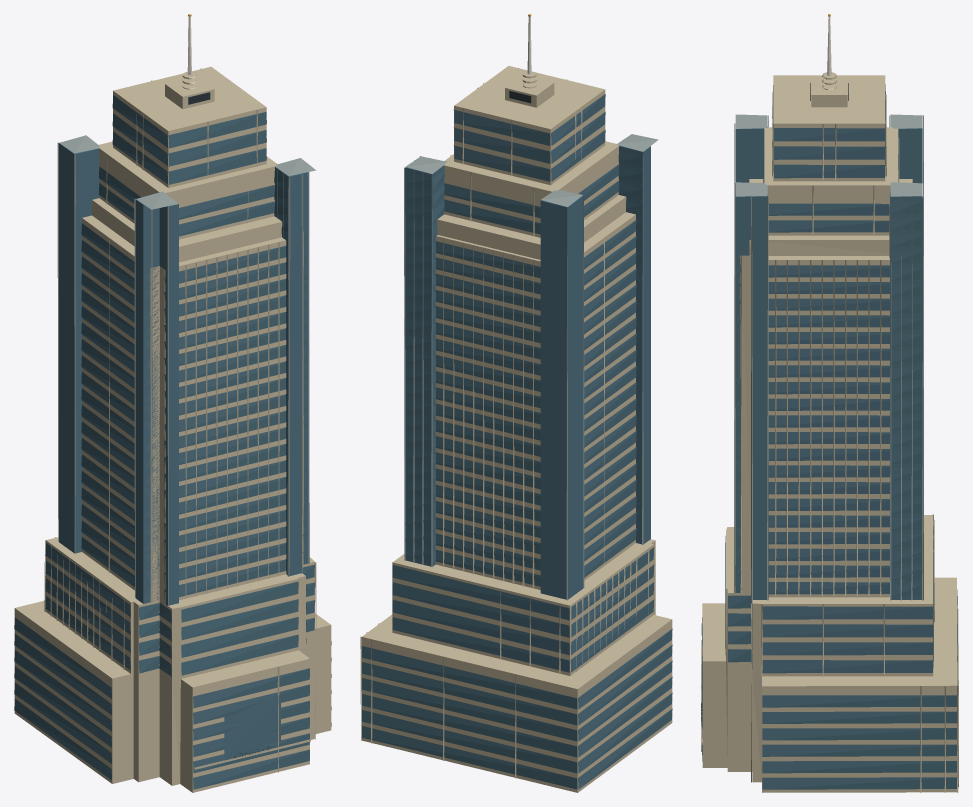
The model's file is rembrandt-tower.lod1.glb.
3 renders of one model, left to right at view 1: azimuth 30°, elevation 25°; view 2: azimuth 150°, elevation 25°; view 3: azimuth 270°, elevation 25°, orthographic. The views are drawn at different scales.
Parts seen in each view (by area): view 1: rembrandt-tower; view 2: rembrandt-tower; view 3: rembrandt-tower.
Boxes of the visible parts, left/top/right/bottom form: rembrandt-tower: left=14, top=14, right=331, bottom=792; rembrandt-tower: left=360, top=14, right=672, bottom=792; rembrandt-tower: left=701, top=14, right=958, bottom=792.
Size of the model in its own units: 48.4 by 150 by 48.33.
